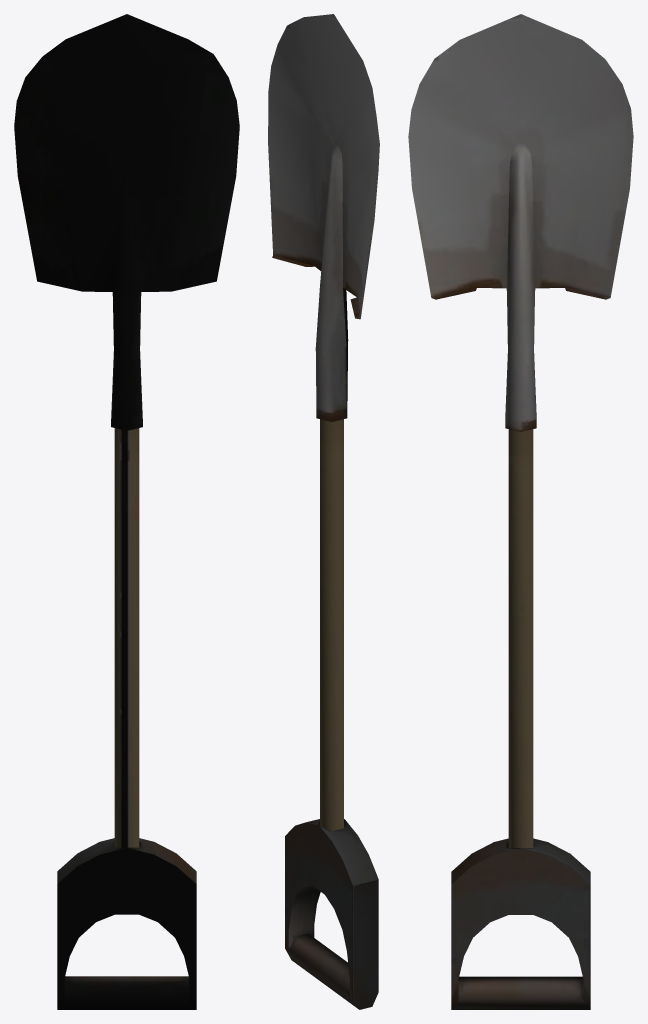
3 renders of one model, left to right at view 1: azimuth 90°, elevation 25°; view 2: azimuth 210°, elevation 25°; view 3: azimuth 270°, elevation 25°, orthographic. The views are drawn at different scales.
Visible parts, largest first — view 1: body0_model0_lod0_mesh0; view 2: body0_model0_lod0_mesh0; view 3: body0_model0_lod0_mesh0.
Part boxes in pixels (x1,y1,x2,y2): body0_model0_lod0_mesh0: (14, 14, 239, 1009); body0_model0_lod0_mesh0: (268, 14, 379, 1009); body0_model0_lod0_mesh0: (408, 14, 633, 1009).
Bounding box in the file's own units: 2.31 × 61.8 × 12.72.
1 material, 1 textured.
